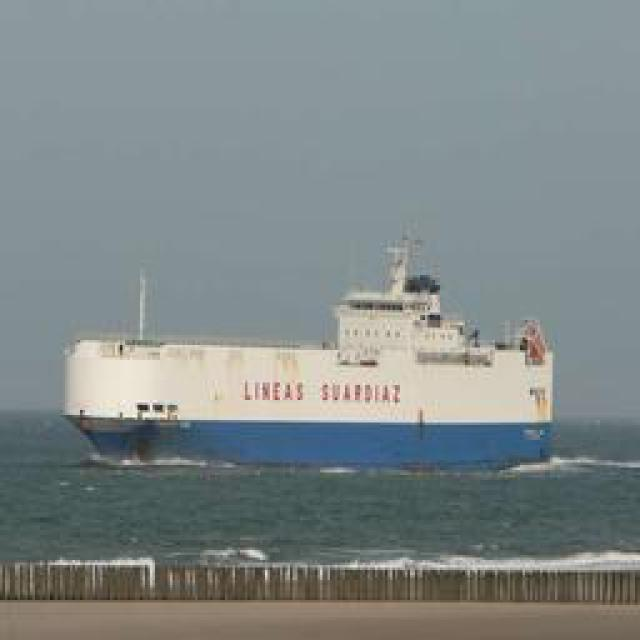Ship: (38, 235, 563, 473)
